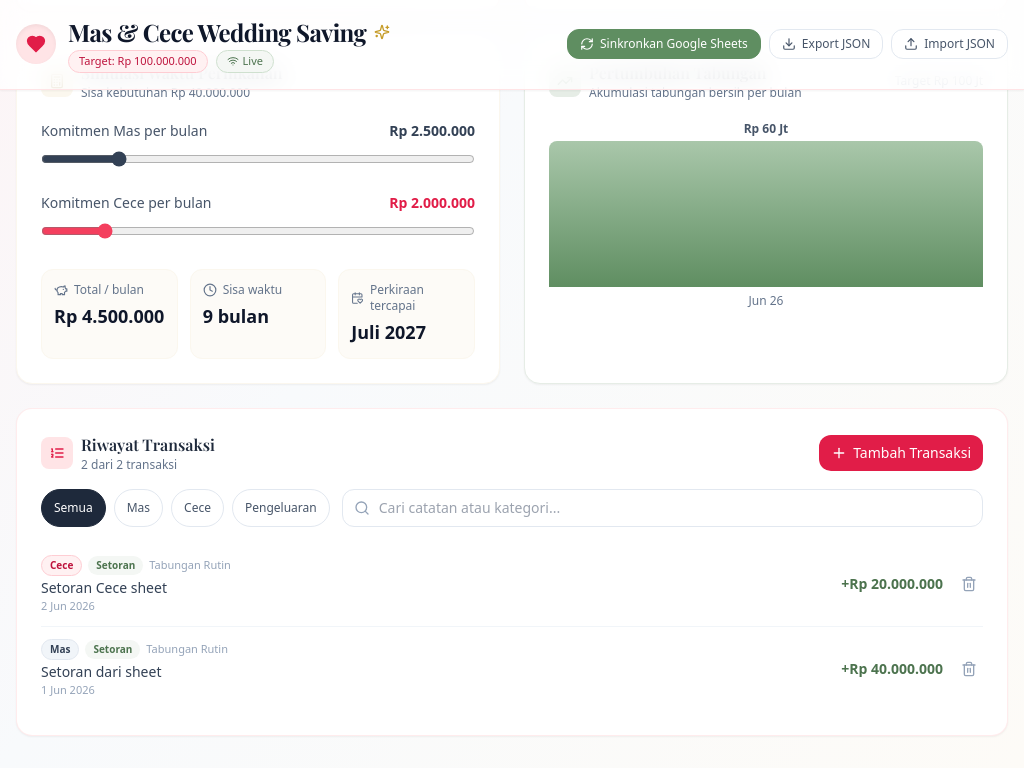
App Component › with Google Sheet write enabled › deletes from the Sheet after confirmation
(page scrolled)
Expected: the element with test id "sync-status" reads "Live", [243, 53, 263, 68]
Click the button named "Hapus transaksi Setoran Cece sheet" at (969, 584), box [955, 570, 983, 598]
(page scrolled)
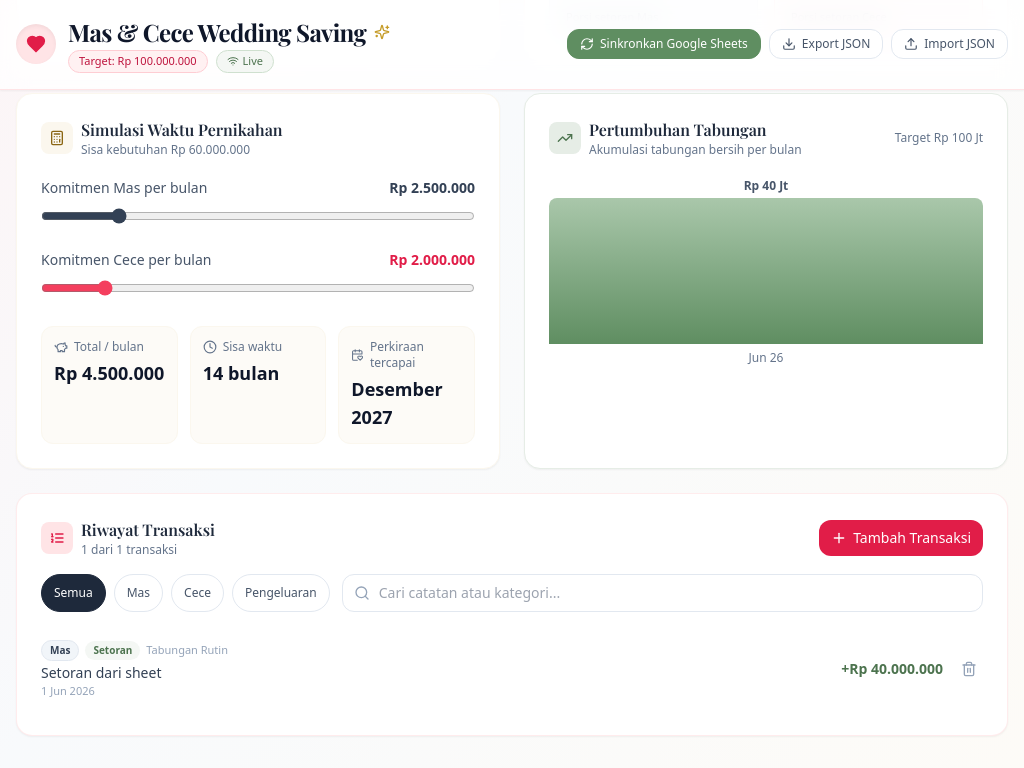
Result: the text "Setoran Cece sheet" is gone
